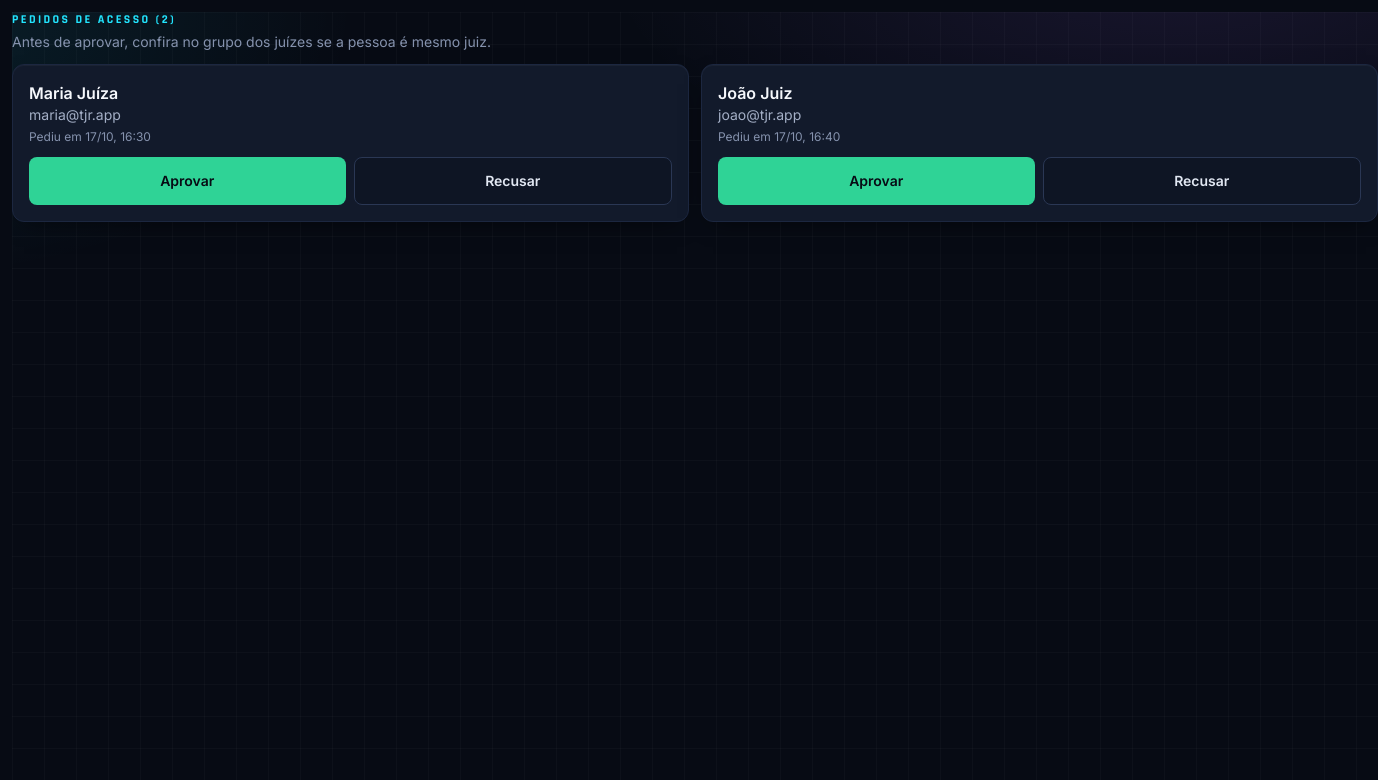
Scenario: PedidosAcesso › aprovar pede confirmacao e cria a conta como juiz
Expected: the text "Maria Juíza" is shown, [29,83,118,103]
Click the button "Aprovar" below "Maria Juíza" at (187, 181), box [29,157,346,205]
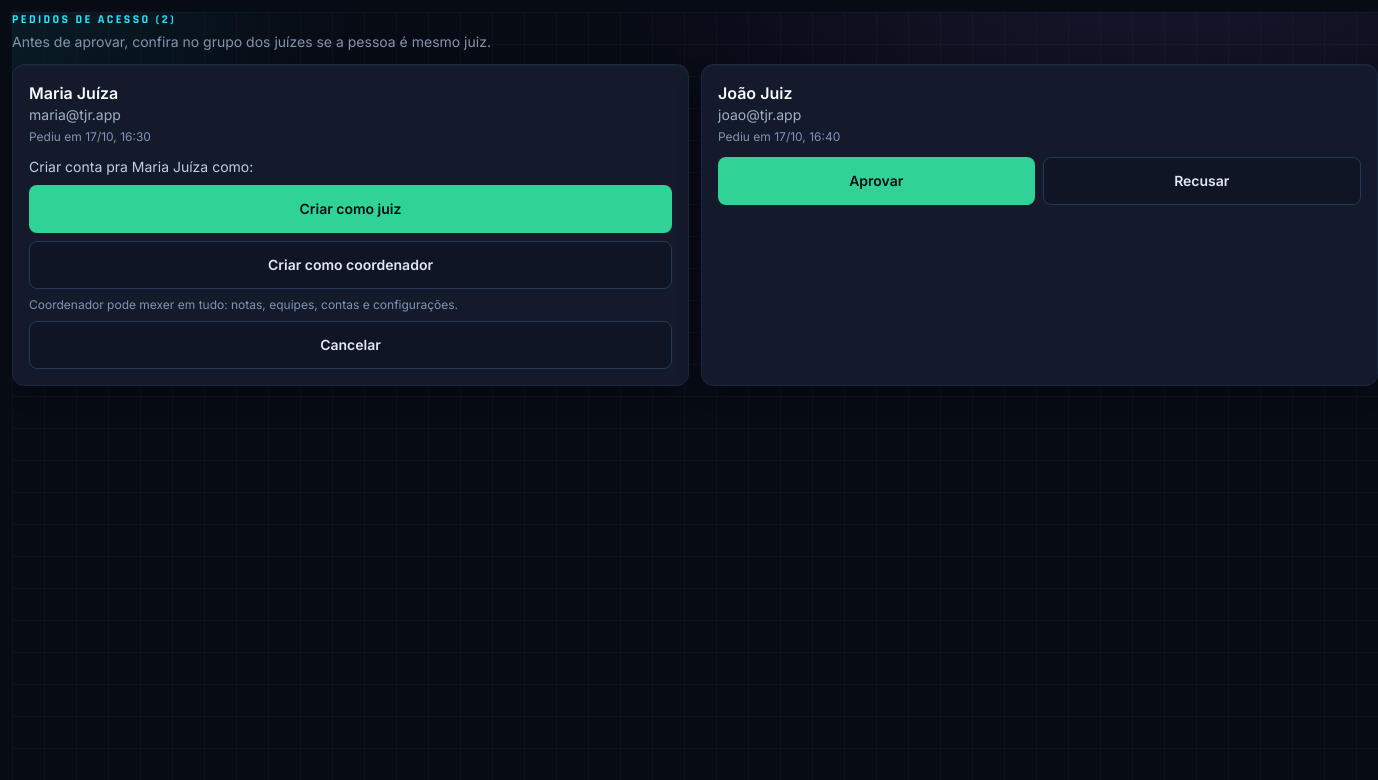
Click the button "Criar como juiz" at (350, 209), box [29,185,672,233]
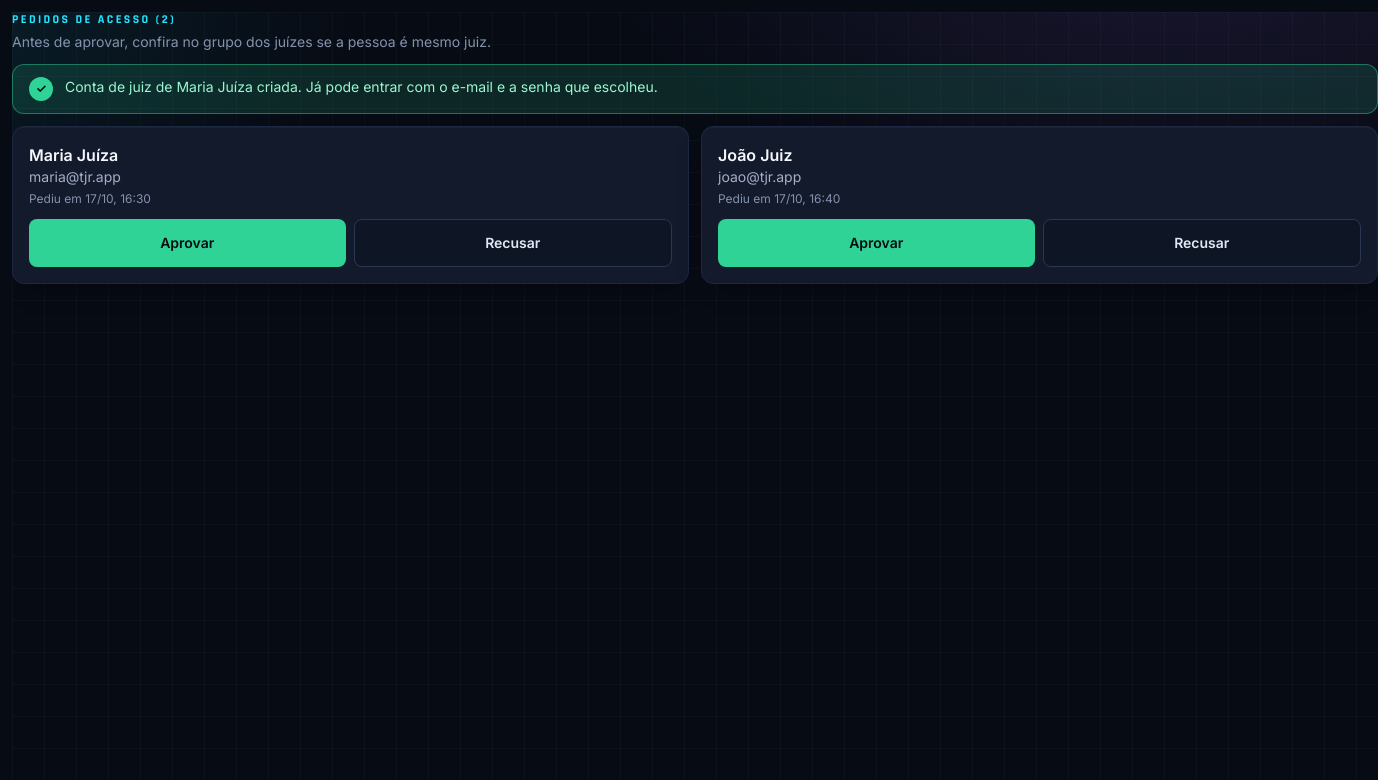
Result: the text "Conta de juiz de Maria Juíza criada" is shown at [65,78,658,95]
